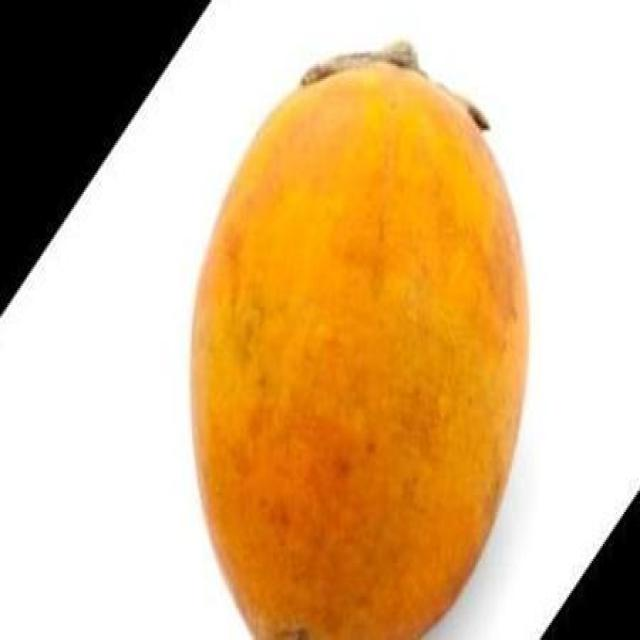good: (193, 49, 526, 638)
